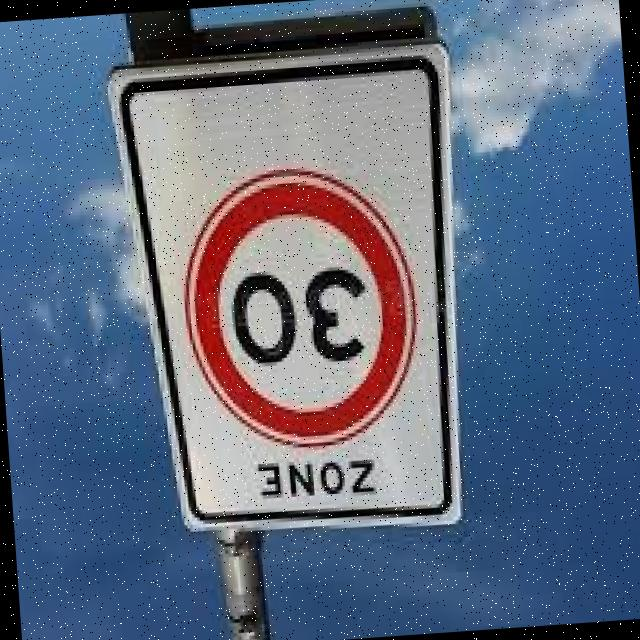speed_limit_30: (162, 141, 428, 456)
